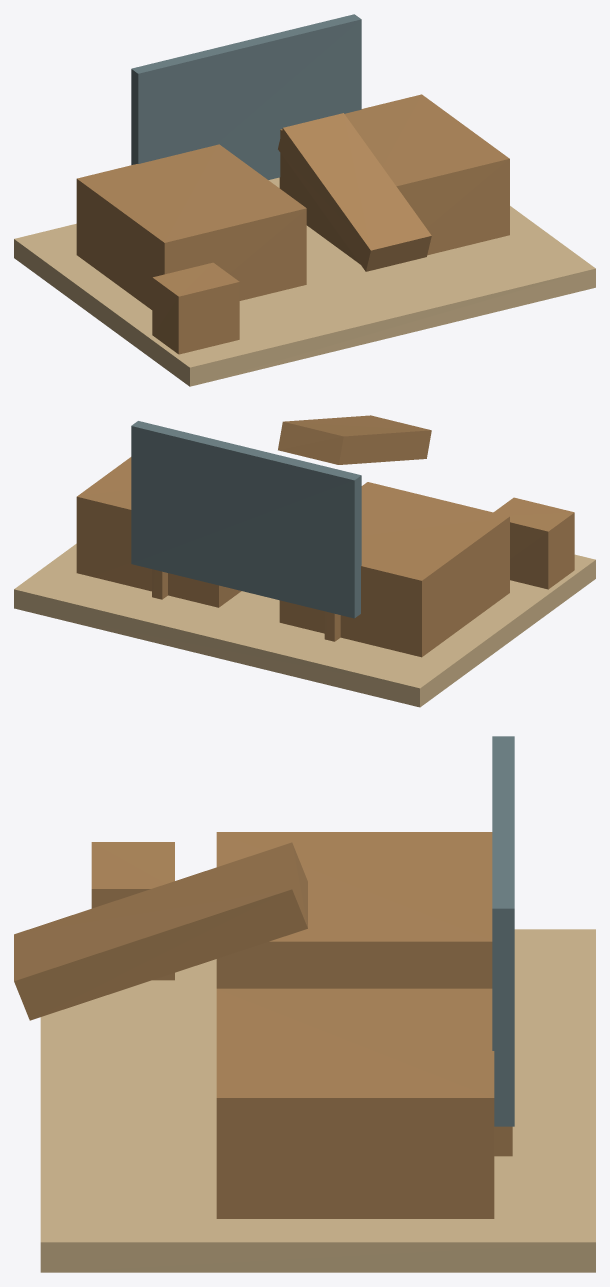
Rendered from Mulch-Station.glb.
3 views of the same model, one above another, from view 1: azimuth 30°, elevation 25°; view 2: azimuth 150°, elevation 25°; view 3: azimuth 270°, elevation 25° (orthographic). The views are drawn at different scales.
Visible parts, largest first — view 1: mulch-station-static-mulch-timber, mulch-station-static-mulch-cream, mulch-station-static-mulch-iron, mulch-station-static-mulch-teal; view 2: mulch-station-static-mulch-iron, mulch-station-static-mulch-timber, mulch-station-static-mulch-cream, mulch-station-static-mulch-teal, mulch-station-static-mulch-galv; view 3: mulch-station-static-mulch-timber, mulch-station-static-mulch-cream, mulch-station-static-mulch-teal, mulch-station-static-mulch-iron.
Part boxes in pixels (<box>): mulch-station-static-mulch-timber: <box>76,94,509,309</box>; mulch-station-static-mulch-cream: <box>14,177,595,386</box>; mulch-station-static-mulch-iron: <box>131,14,361,179</box>; mulch-station-static-mulch-teal: <box>152,113,431,354</box>; mulch-station-static-mulch-iron: <box>131,421,361,618</box>; mulch-station-static-mulch-timber: <box>76,457,509,657</box>; mulch-station-static-mulch-cream: <box>14,543,595,707</box>; mulch-station-static-mulch-teal: <box>278,415,574,589</box>; mulch-station-static-mulch-galv: <box>152,569,340,641</box>; mulch-station-static-mulch-timber: <box>216,832,494,1218</box>; mulch-station-static-mulch-cream: <box>40,929,595,1272</box>; mulch-station-static-mulch-teal: <box>14,842,307,1020</box>; mulch-station-static-mulch-iron: <box>492,736,514,1126</box>.
Bounding box in the file's own units: 4 × 1.75 × 3.14.
